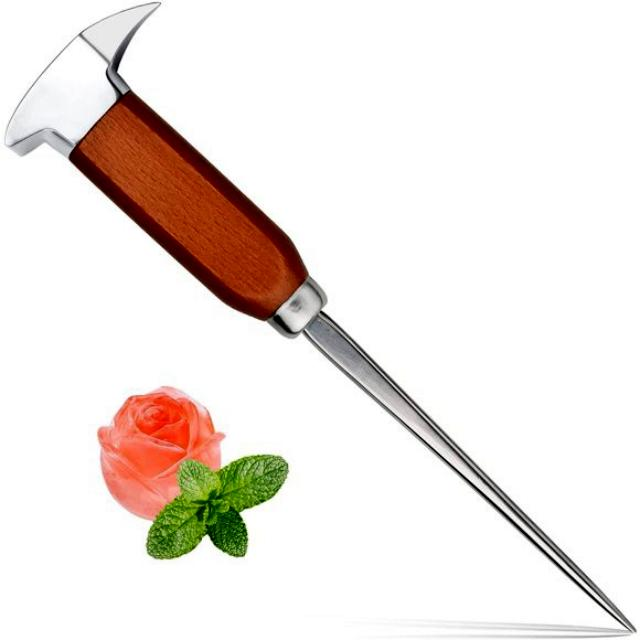ice pick: (5, 0, 638, 636)
